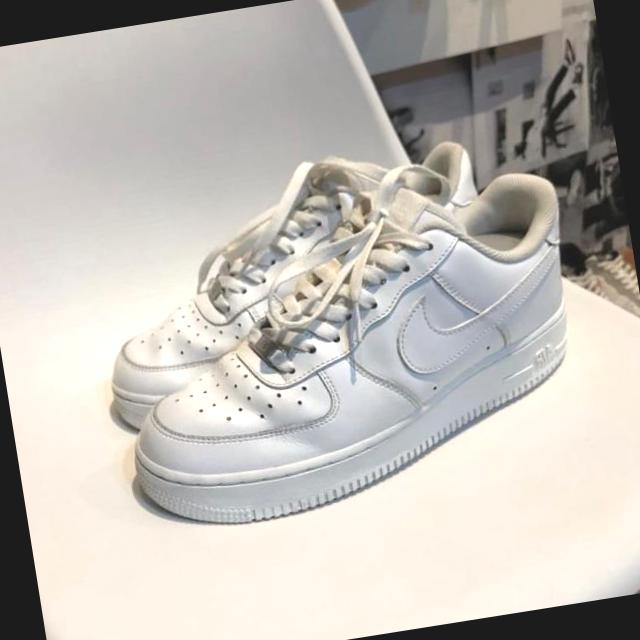nike_original_airforce: (89, 167, 596, 508)
